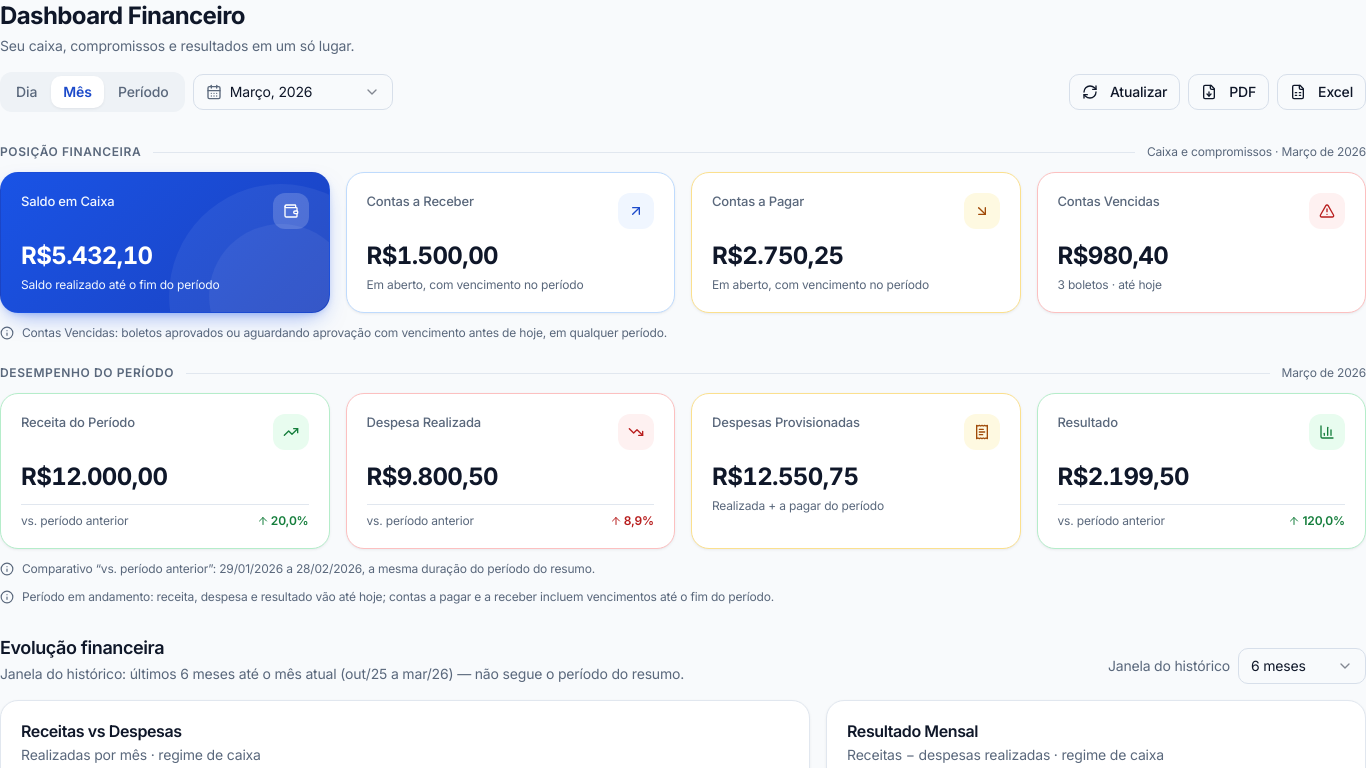
Test: DashboardFinanceiroSection — Redesign V2 › se o resumo falhar após trocar de período, a legenda continua no período dos valores exibidos
The image size is (1366, 768).
Check: the text "R$5.432,10" is shown, box [21, 241, 152, 270]
Step 1. Click the radio button labelled "Dia" → (27, 92), box [4, 76, 49, 108]
(page scrolled)
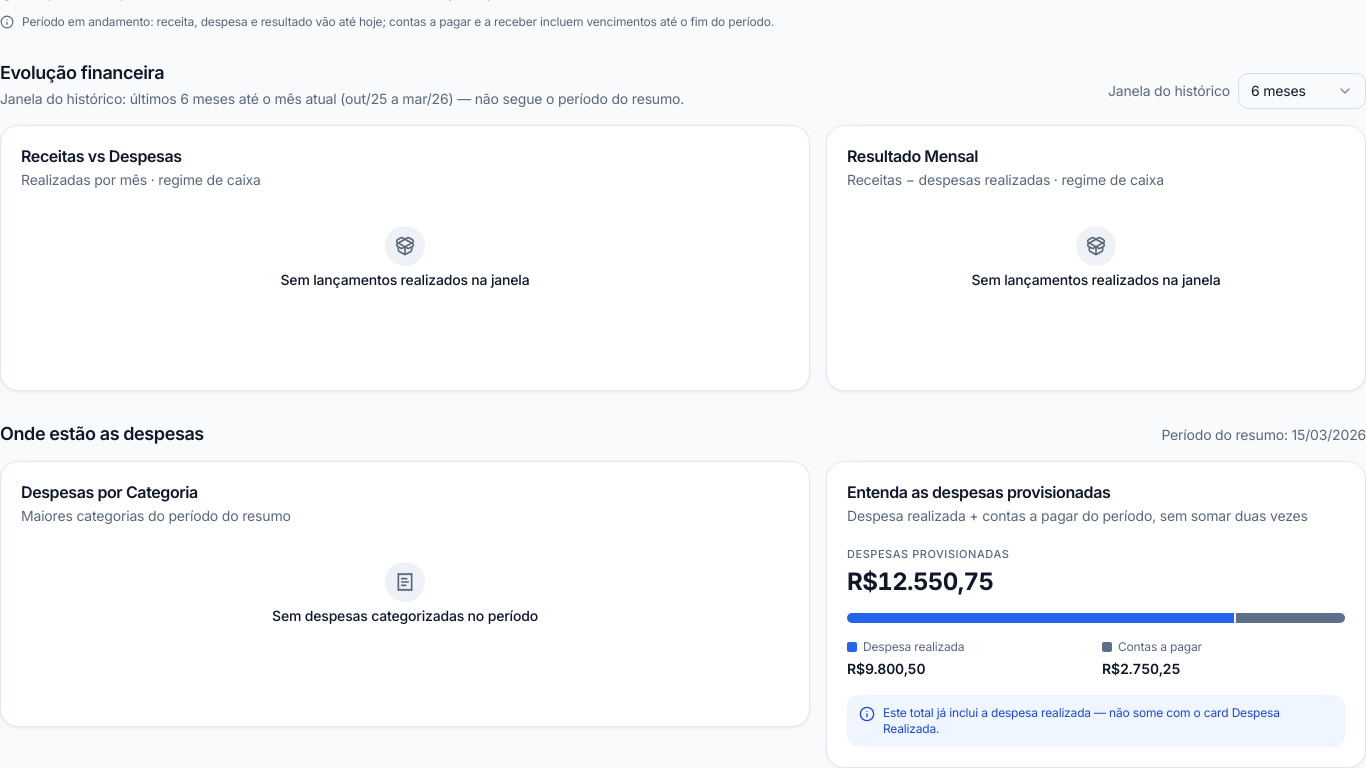
Check: the text "Período do resumo: 15/03/2026" is shown, box [1161, 425, 1365, 445]
